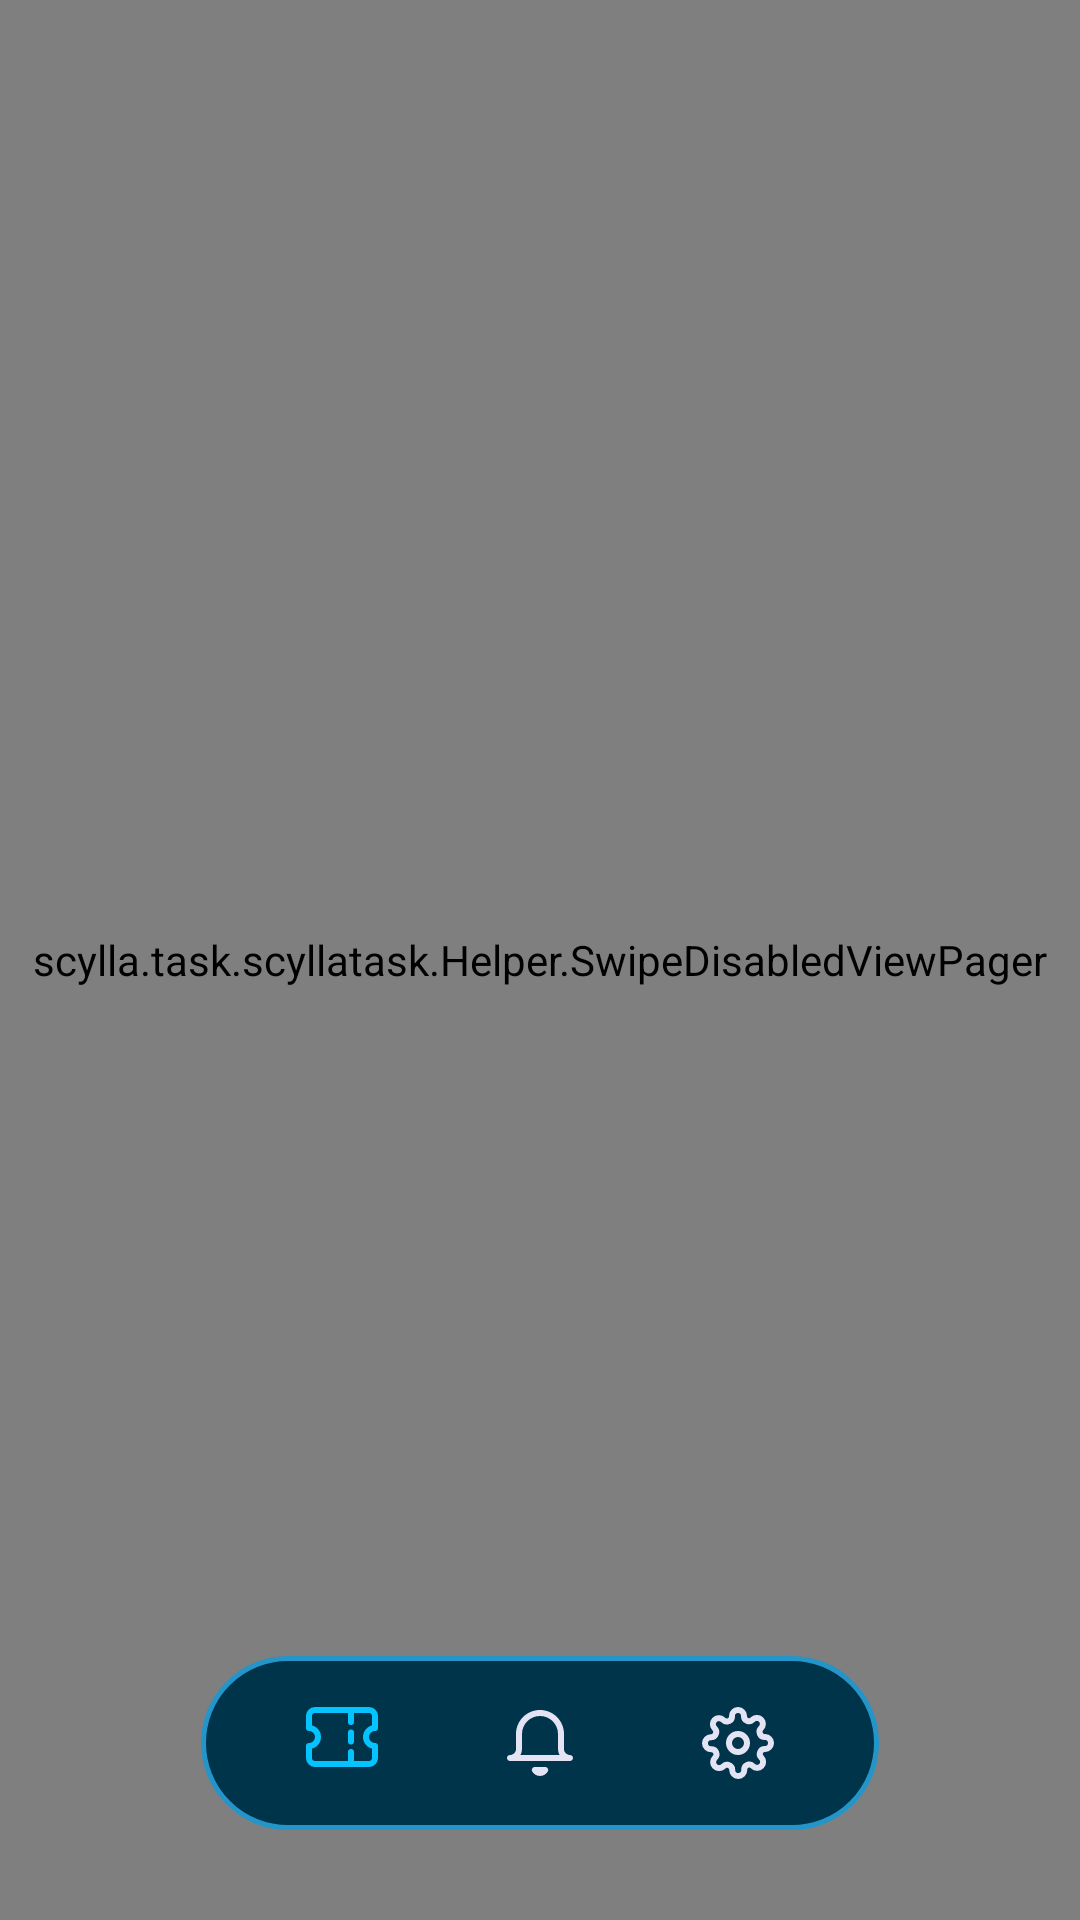

Icons on this 1080*1920 Android screen, each with its box as (x1, y1, x2, y2):
notif: (507, 1710, 573, 1776)
settings: (702, 1707, 774, 1779)
ticket: (306, 1707, 378, 1767)
